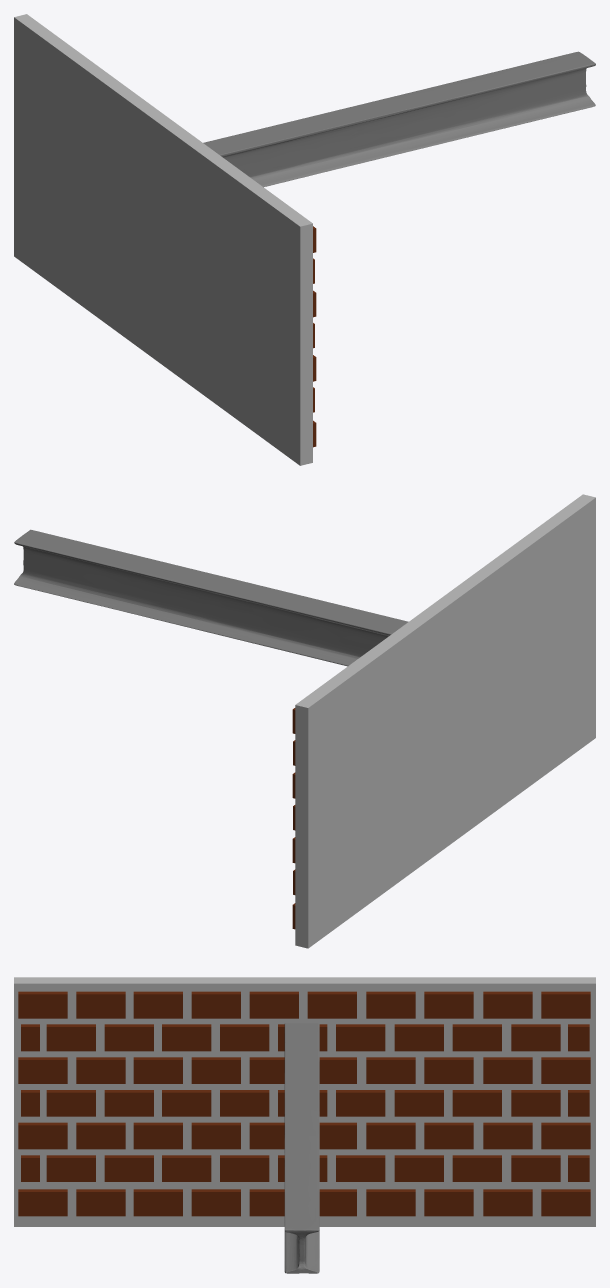
File: Modelos (Perlin I, Muro).fbx
3 views of the same model, one above another, from view 1: azimuth 30°, elevation 25°; view 2: azimuth 150°, elevation 25°; view 3: azimuth 270°, elevation 25° (orthographic).
Parts seen in each view (by area): view 1: Muro Completo.005, geometry_0; view 2: Muro Completo.005, geometry_0; view 3: Muro Completo.005, geometry_0.
Part boxes in pixels (x1,y1,x2,y2): Muro Completo.005: (14,14,316,465); geometry_0: (203,51,595,187); Muro Completo.005: (292,494,595,948); geometry_0: (14,529,408,666); Muro Completo.005: (14,977,595,1226); geometry_0: (284,1023,319,1273).
Bounding box in the file's own units: 1108 × 590 × 1279.
